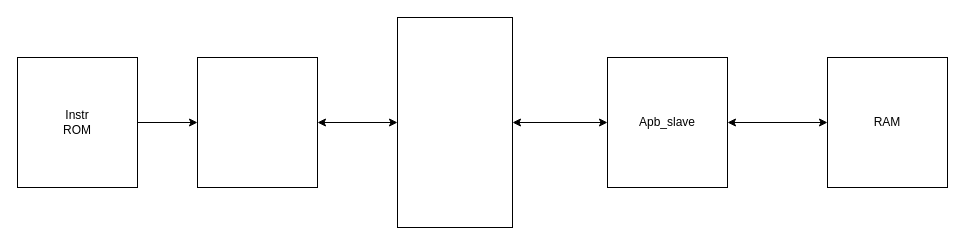
Some shapes in this 965 by 245 pixel diagram are drawn without their labels. Each missing label, with the centre of its shape:
"APB master" belongs at pixel 454 122.
"CPU" belongs at pixel 257 122.
